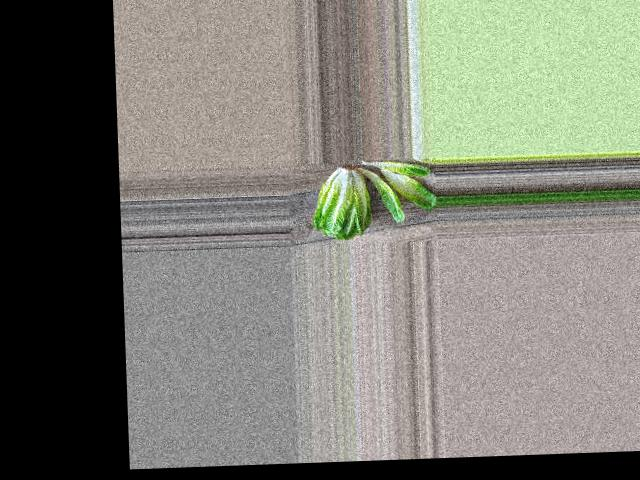lettuce: (309, 167, 375, 240)
